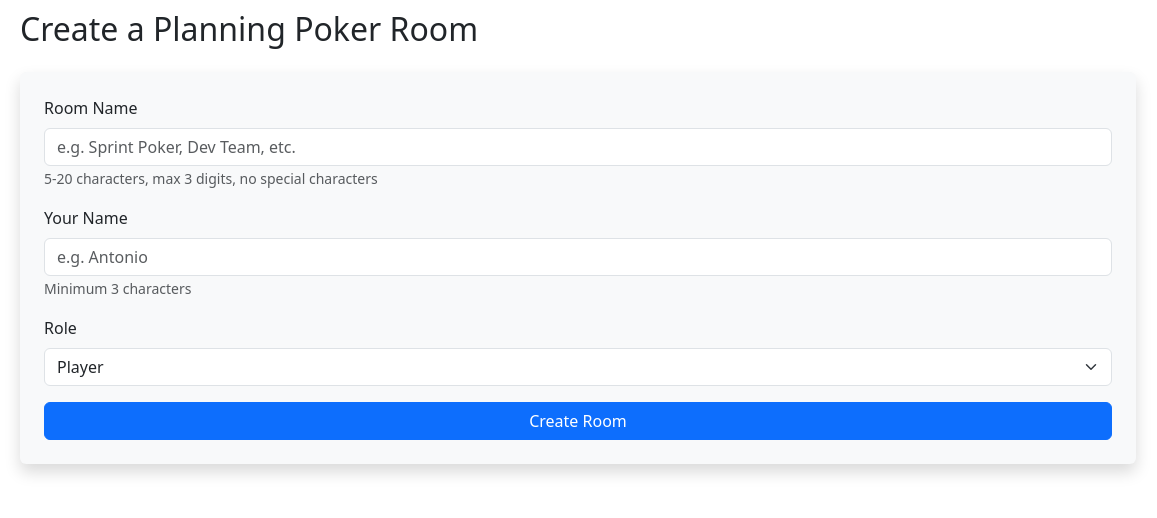
Test: Home Component - Comprehensive Test › Name field validation › shows error when name is too short (1 character)
Step 1. Type "ValidRoom" into the field with placeholder "e.g. Sprint Poker, Dev Team, etc." → (578, 147), box x1=44 y1=128 x2=1112 y2=166
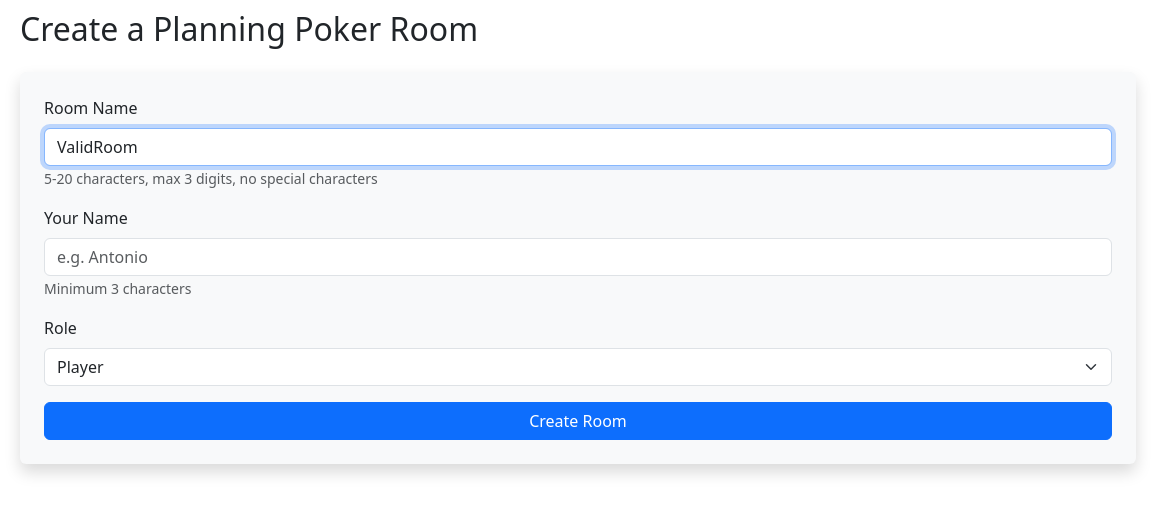
Step 2. Type "A" into the field with placeholder "e.g. Antonio" → (578, 257), box x1=44 y1=238 x2=1112 y2=276
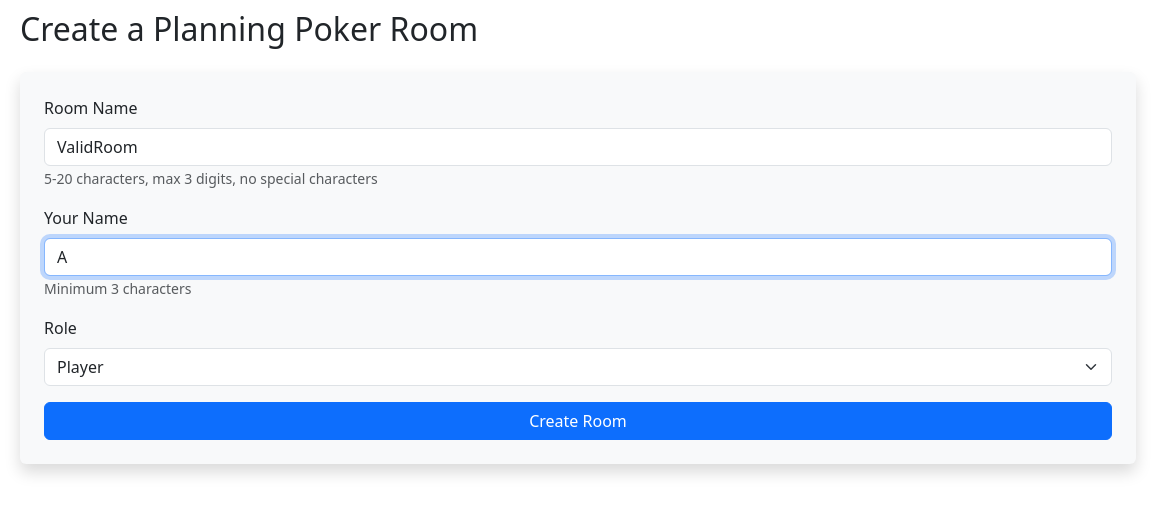
Step 3. Click the button "Create Room" → (578, 421), box x1=44 y1=402 x2=1112 y2=440
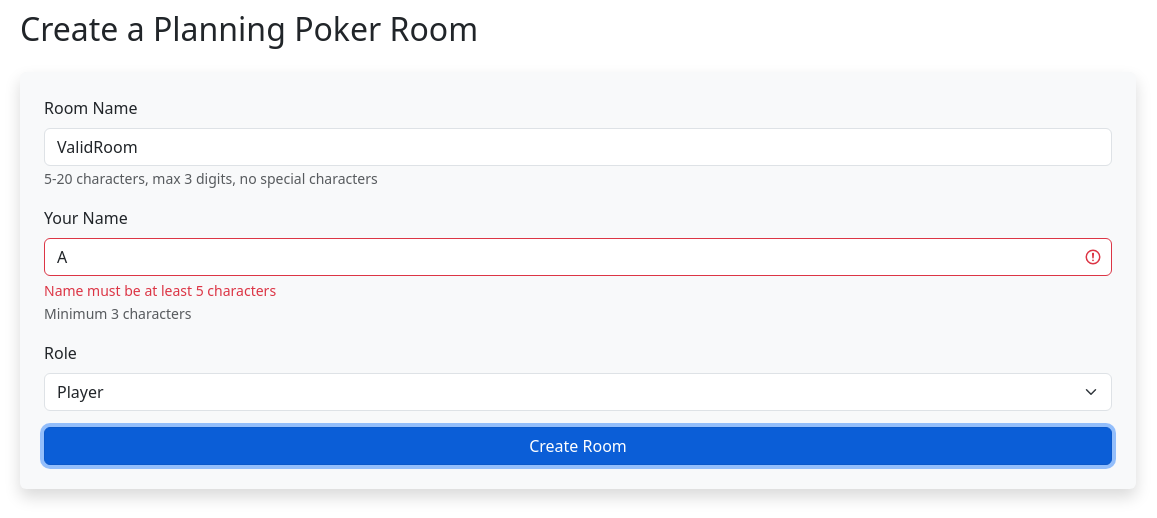
Expected: the text "Name must be at least 5 characters" is shown, x1=44 y1=281 x2=276 y2=300
